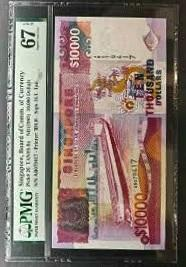10000SingaporeDollar: (56, 21, 166, 249)
